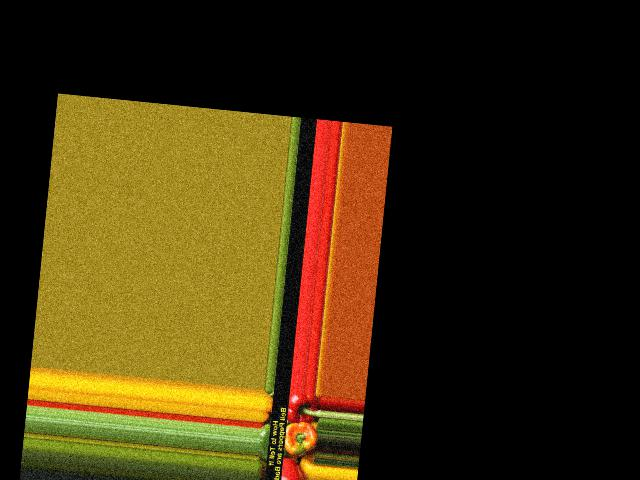bell_pepper: (284, 393, 321, 427)
